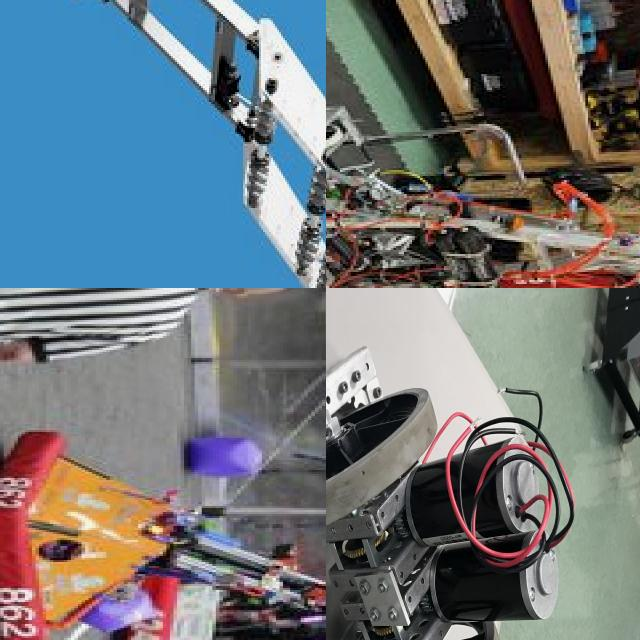FRC-Robots: (0, 0, 326, 288), (326, 318, 574, 640), (0, 395, 311, 632), (326, 56, 640, 288), (114, 543, 326, 640)
